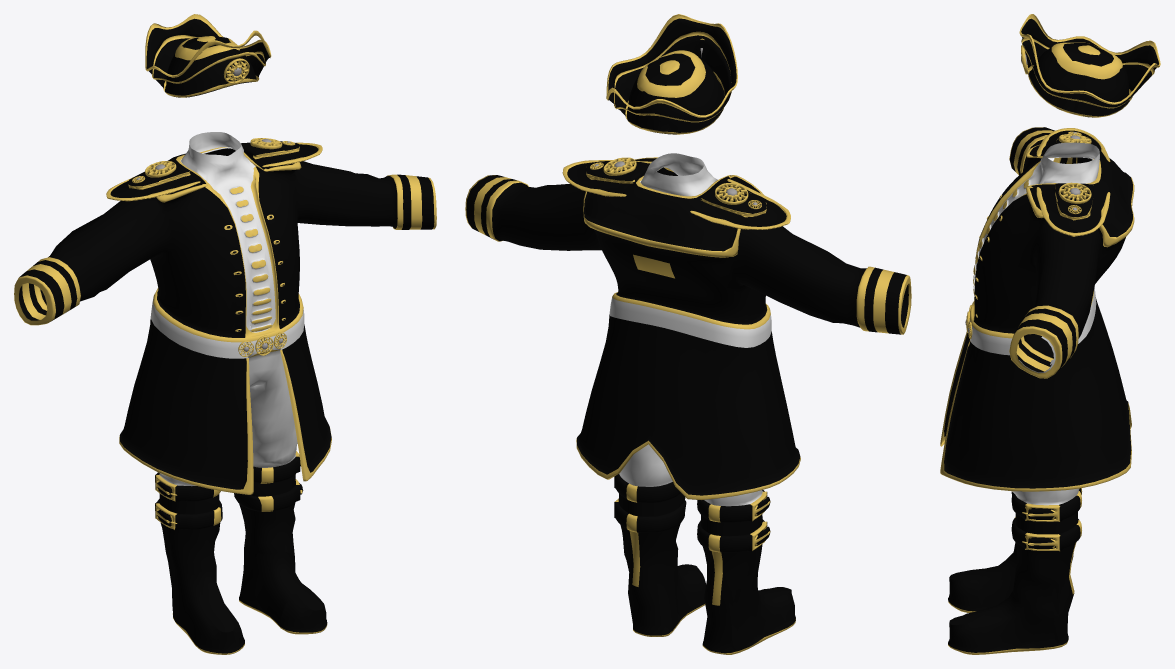
Rendered from Seafarer.fbx.
3 renders of one model, left to right at view 1: azimuth 30°, elevation 25°; view 2: azimuth 150°, elevation 25°; view 3: azimuth 270°, elevation 25°, orthographic. The views are drawn at different scales.
Visible parts, largest first — view 1: Costume, Hat; view 2: Costume, Hat; view 3: Costume, Hat.
Boxes of the visible parts, bbox=[...] form: Costume: bbox=[14, 132, 436, 654]; Hat: bbox=[145, 14, 271, 97]; Costume: bbox=[465, 153, 911, 654]; Hat: bbox=[606, 14, 737, 134]; Costume: bbox=[940, 127, 1134, 654]; Hat: bbox=[1019, 14, 1160, 117].
Size of the model in its own units: 1071 by 1443 by 481.
